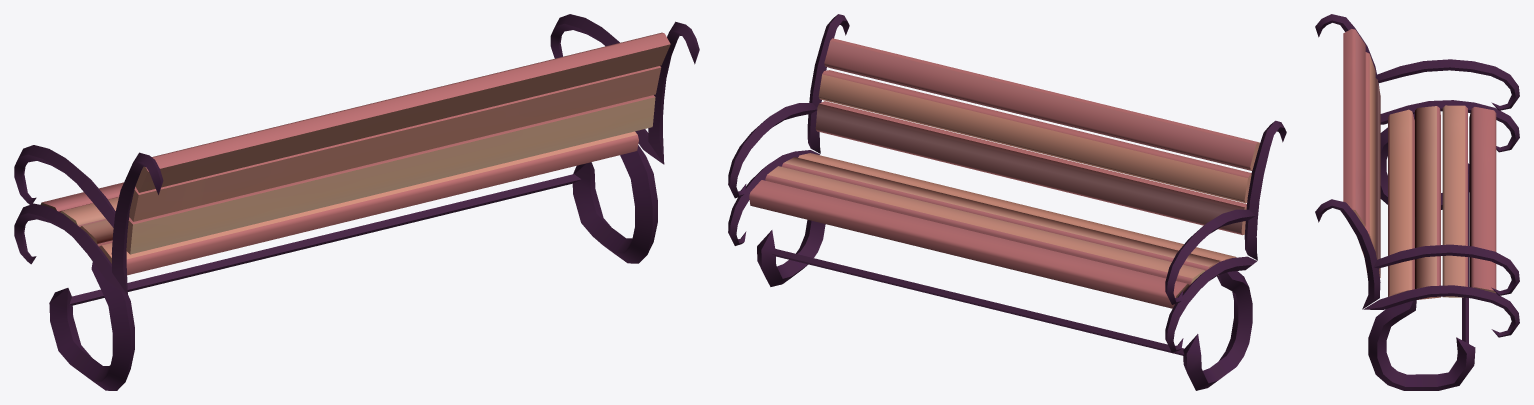
File: Bank.fbx
3 views of the same model, side by side, from view 1: azimuth 30°, elevation 25°; view 2: azimuth 150°, elevation 25°; view 3: azimuth 270°, elevation 25° (orthographic). The views are drawn at different scales.
Visible parts, largest first — view 1: Bank; view 2: Bank; view 3: Bank.
Boxes of the visible parts, x1=… form: Bank: x1=14, y1=14, x2=699, y2=390; Bank: x1=728, y1=14, x2=1286, y2=390; Bank: x1=1315, y1=14, x2=1519, y2=390.
Bounding box in the file's own units: 112 × 53.2 × 50.84.
